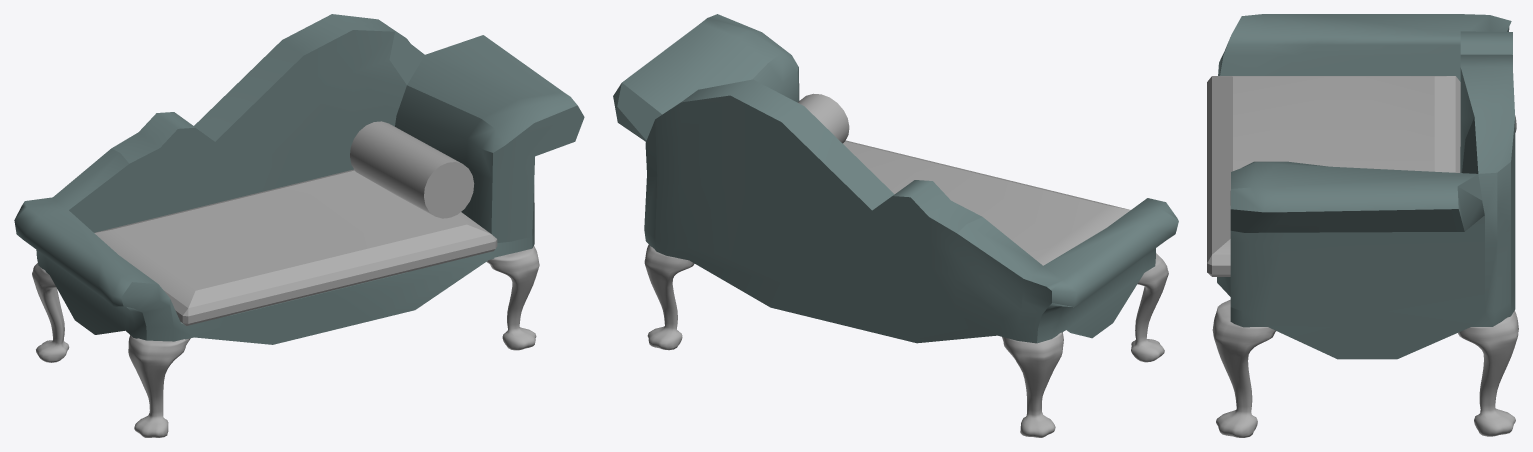
Rendered from Couch1.fbx.
3 views of the same model, side by side, from view 1: azimuth 30°, elevation 25°; view 2: azimuth 150°, elevation 25°; view 3: azimuth 270°, elevation 25° (orthographic). The views are drawn at different scales.
Parts seen in each view (by area): view 1: base, rectangle_pillow, cylinder_pillow, Table_leg2, Table_leg3, Table_leg1; view 2: base, rectangle_pillow, Table_leg1, Table_leg4, Table_leg2, cylinder_pillow; view 3: base, rectangle_pillow, Table_leg3, Table_leg4.
Boxes of the visible parts, left/top/right/bottom form: base: left=14, top=14, right=584, bottom=344; rectangle_pillow: left=94, top=169, right=497, bottom=325; cylinder_pillow: left=350, top=121, right=474, bottom=218; Table_leg2: left=128, top=335, right=190, bottom=437; Table_leg3: left=486, top=246, right=539, bottom=350; Table_leg1: left=32, top=263, right=69, bottom=362; base: left=613, top=14, right=1178, bottom=343; rectangle_pillow: left=843, top=140, right=1130, bottom=265; Table_leg1: left=1002, top=332, right=1063, bottom=437; Table_leg4: left=644, top=244, right=694, bottom=350; Table_leg2: left=1131, top=253, right=1168, bottom=362; cylinder_pillow: left=798, top=93, right=849, bottom=143; base: left=1217, top=14, right=1515, bottom=359; rectangle_pillow: left=1207, top=76, right=1460, bottom=276; Table_leg3: left=1212, top=299, right=1275, bottom=437; Table_leg4: left=1458, top=311, right=1518, bottom=436.
Size of the model in its own units: 13.47 by 7.24 by 6.39.
